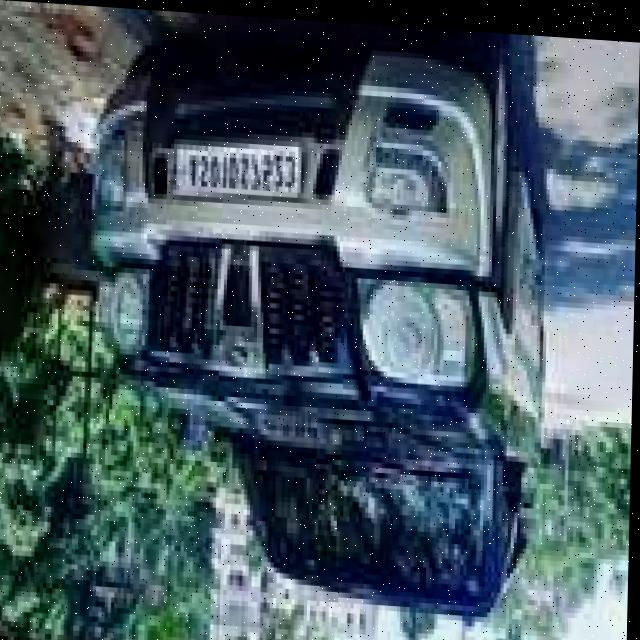plate: (175, 129, 303, 202)
